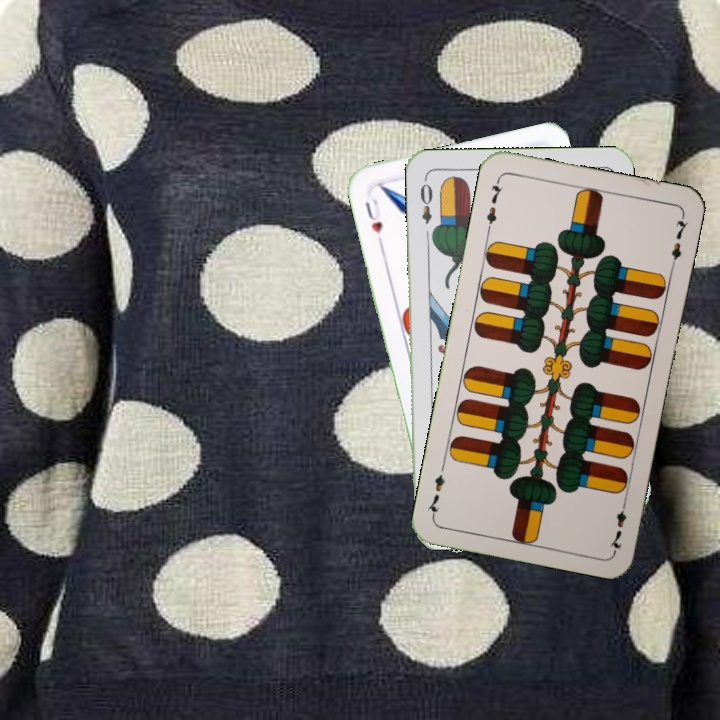E7: (482, 175, 505, 234), (606, 495, 629, 554)
EO: (416, 174, 435, 226)
HU: (361, 195, 385, 236)
